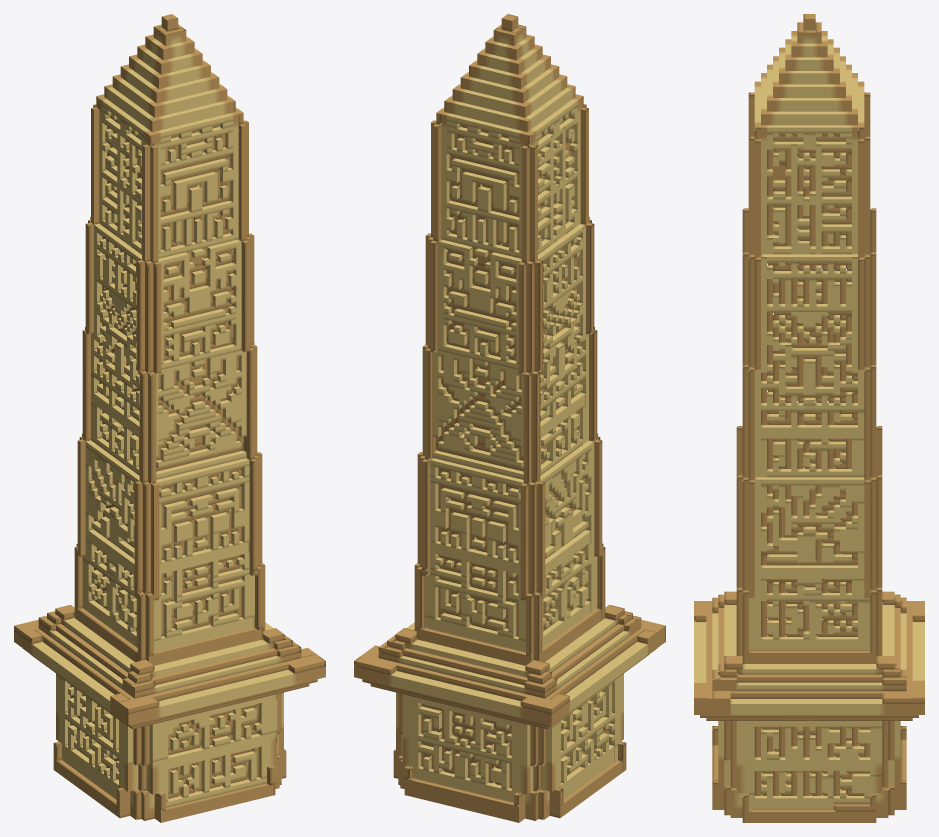
The model's file is Obelisco.dae.
3 views of the same model, side by side, from view 1: azimuth 30°, elevation 25°; view 2: azimuth 150°, elevation 25°; view 3: azimuth 270°, elevation 25° (orthographic).
Parts seen in each view (by area): view 1: Node-local; view 2: Node-local; view 3: Node-local.
Boxes of the visible parts, x1=… form: Node-local: x1=14, y1=14, x2=325, y2=822; Node-local: x1=354, y1=14, x2=665, y2=822; Node-local: x1=694, y1=14, x2=924, y2=822.
Size of the model in its own units: 38 by 139 by 38.
1 material, 1 textured.
